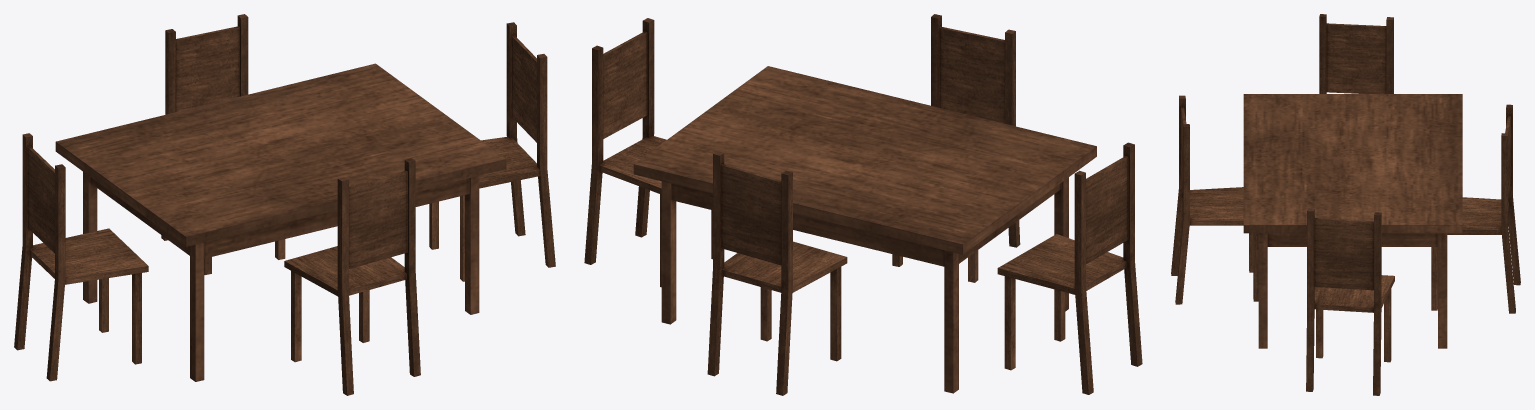
The model's file is table_and_chair.glb.
The picture shows the model from 3 angles, left to right: view 1: azimuth 30°, elevation 25°; view 2: azimuth 150°, elevation 25°; view 3: azimuth 270°, elevation 25°; orthographic projection. The views are drawn at different scales.
Visible parts, largest first — view 1: table_1, chair_03_0, chair_02_4, chair_2, chair_01_3; view 2: table_1, chair_01_3, chair_02_4, chair_2, chair_03_0; view 3: table_1, chair_2, chair_02_4, chair_03_0, chair_01_3.
Part boxes in pixels (x1,y1,x2,y2): table_1: [55, 63, 506, 381]; chair_03_0: [284, 158, 420, 395]; chair_02_4: [14, 133, 148, 381]; chair_2: [429, 22, 555, 281]; chair_01_3: [161, 14, 285, 274]; table_1: [633, 66, 1096, 393]; chair_01_3: [707, 151, 847, 395]; chair_02_4: [997, 142, 1142, 394]; chair_2: [584, 18, 712, 287]; chair_03_0: [892, 14, 1020, 282]; table_1: [1243, 94, 1462, 348]; chair_2: [1306, 208, 1394, 395]; chair_02_4: [1319, 14, 1393, 93]; chair_03_0: [1171, 95, 1258, 304]; chair_01_3: [1431, 104, 1520, 313].
Bounding box in the file's own units: 2.72 × 1.08 × 1.93.
1 material, 1 textured.
